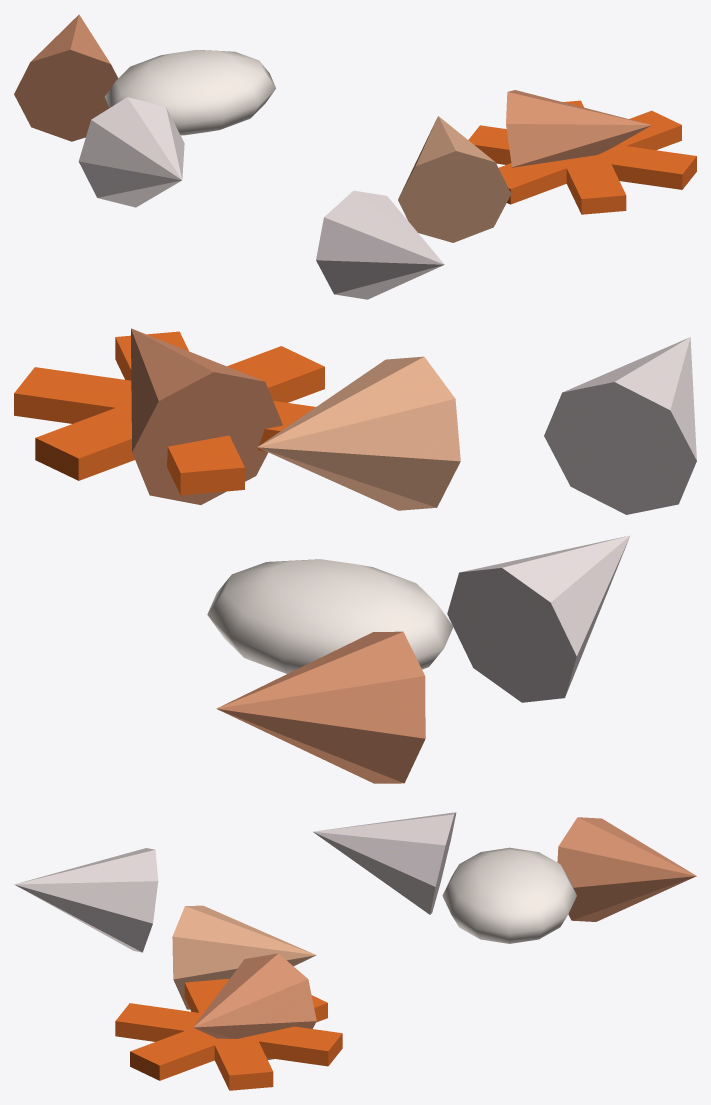
File: seashell.glb
3 views of the same model, one above another, from view 1: azimuth 30°, elevation 25°; view 2: azimuth 150°, elevation 25°; view 3: azimuth 270°, elevation 25° (orthographic). The views are drawn at different scales.
Parts seen in each view (by area): view 1: Cone; view 2: Cone; view 3: Cone.
Boxes of the visible parts, x1=… form: Cone: x1=14, y1=14, x2=696, y2=299; Cone: x1=14, y1=328, x2=696, y2=783; Cone: x1=14, y1=812, x2=696, y2=1090.
Bounding box in the file's own units: 5.05 × 1 × 6.21.
1 material, 1 textured.
